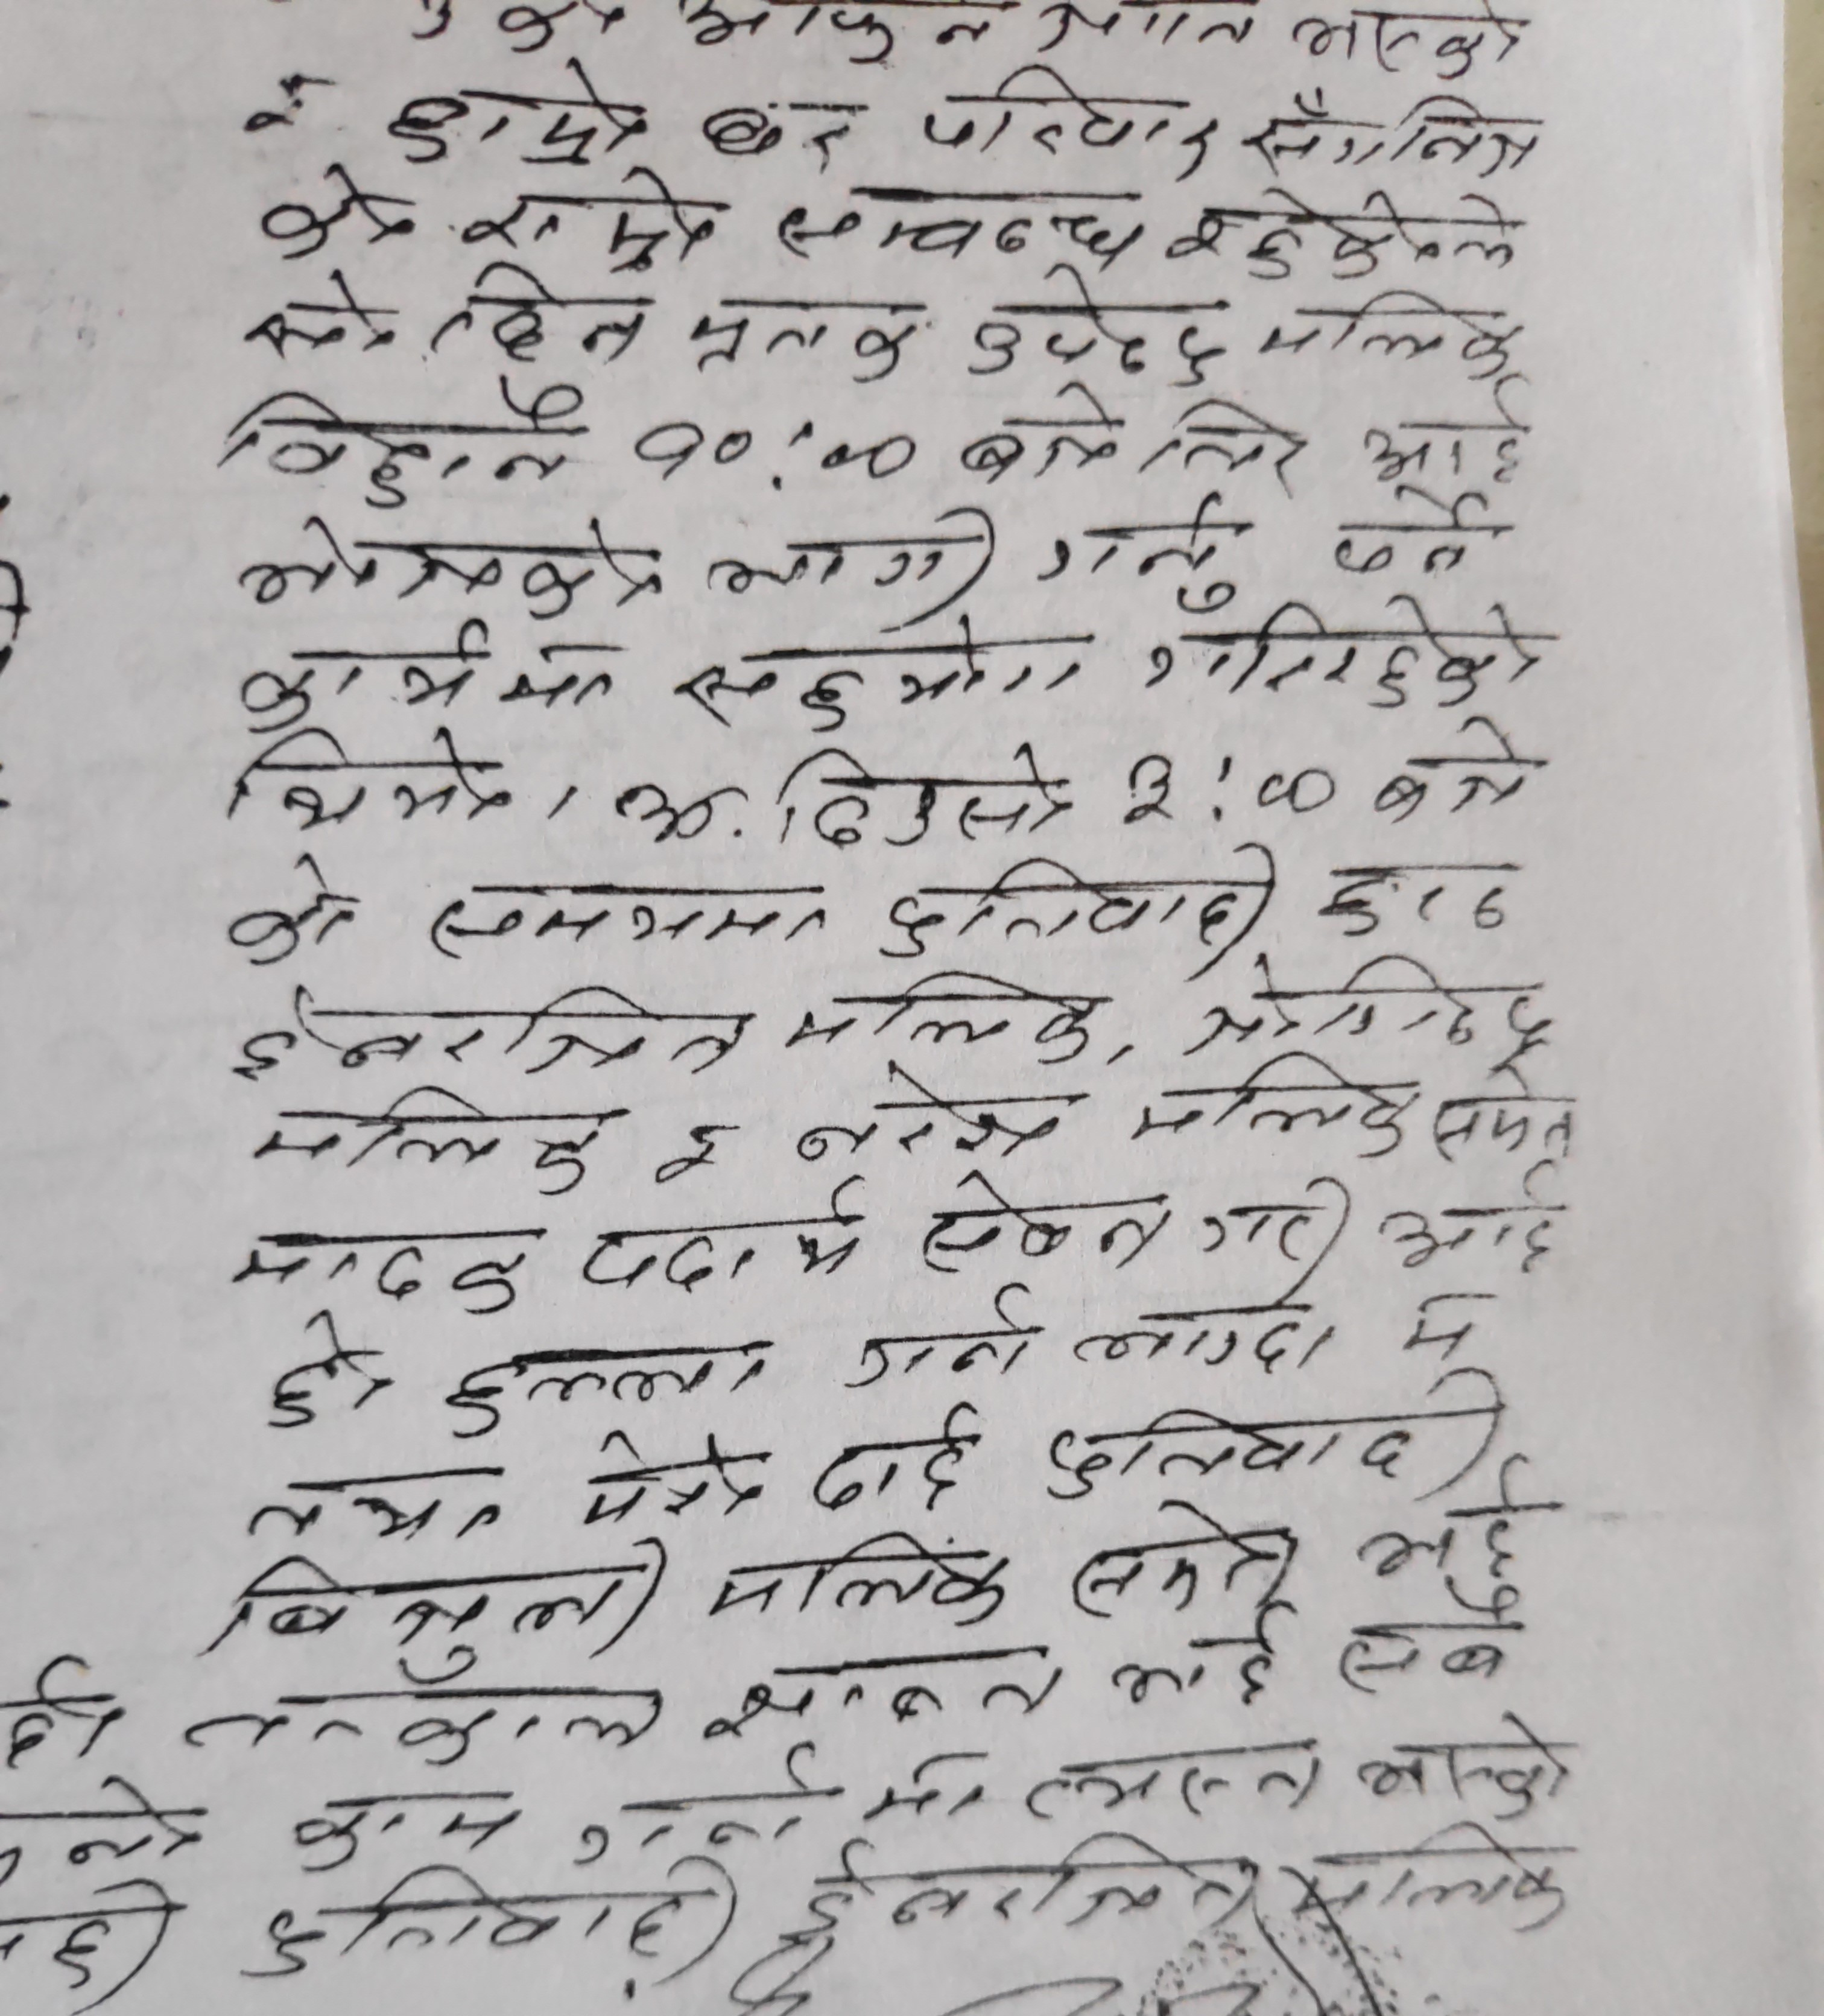text: (204, 1547, 678, 1684), (253, 1867, 736, 1995), (219, 982, 748, 1092), (878, 836, 1294, 975), (1034, 1387, 1501, 1508), (783, 1837, 1257, 1946), (232, 508, 665, 625), (618, 736, 1064, 848), (672, 622, 1109, 736), (1127, 616, 1562, 713), (771, 167, 1152, 276), (169, 1684, 672, 1765), (248, 1089, 609, 1201), (409, 869, 829, 966), (214, 393, 564, 504), (1178, 179, 1529, 288), (226, 629, 606, 727), (706, 486, 1001, 608), (702, 1647, 1071, 1744), (1283, 1823, 1571, 1942), (442, 1336, 781, 1436), (909, 70, 1215, 181), (693, 1526, 1018, 1630), (578, 1184, 871, 1298), (1124, 1050, 1417, 1163), (778, 975, 1113, 1071), (964, 265, 1236, 383), (226, 725, 514, 836), (1178, 969, 1562, 1050), (1245, 84, 1541, 188), (223, 1217, 542, 1310), (567, 1740, 823, 1856), (621, 395, 929, 492), (388, 54, 651, 167), (1030, 483, 1252, 616), (783, 1066, 1067, 1168), (913, 1168, 1178, 1273), (1067, 1503, 1296, 1623), (1018, 1739, 1320, 1828), (681, 284, 925, 395), (428, 260, 660, 372), (237, 1458, 506, 1554), (1060, 1294, 1338, 1386), (458, 176, 727, 269), (1369, 1163, 1576, 1282), (1350, 1717, 1589, 1816), (1260, 288, 1522, 378), (1308, 852, 1541, 950), (846, 1285, 1043, 1394), (1115, 739, 1348, 831), (569, 1429, 771, 1533), (1336, 1593, 1519, 1705), (1362, 713, 1541, 827), (1102, 1621, 1303, 1723), (241, 260, 404, 381), (1359, 383, 1538, 490), (811, 1408, 1001, 1508), (1131, 393, 1308, 499), (1290, 7, 1529, 84), (1190, 1171, 1359, 1280), (1429, 1054, 1594, 1163), (253, 158, 421, 263), (249, 1315, 388, 1442), (223, 848, 365, 971), (962, 381, 1118, 492), (283, 1789, 521, 1861), (1357, 1500, 1541, 1588), (1327, 495, 1501, 587), (693, 88, 862, 172), (865, 1740, 988, 1849), (643, 1117, 729, 1198), (1404, 1291, 1489, 1364)
